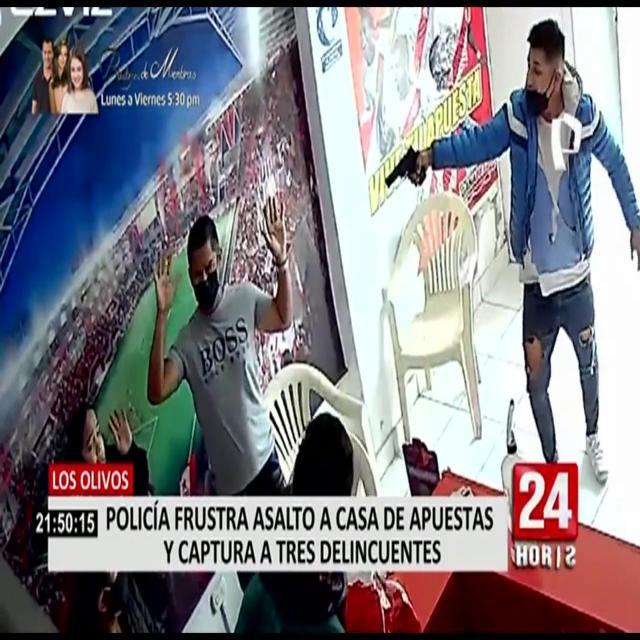weapon: (370, 126, 432, 206)
